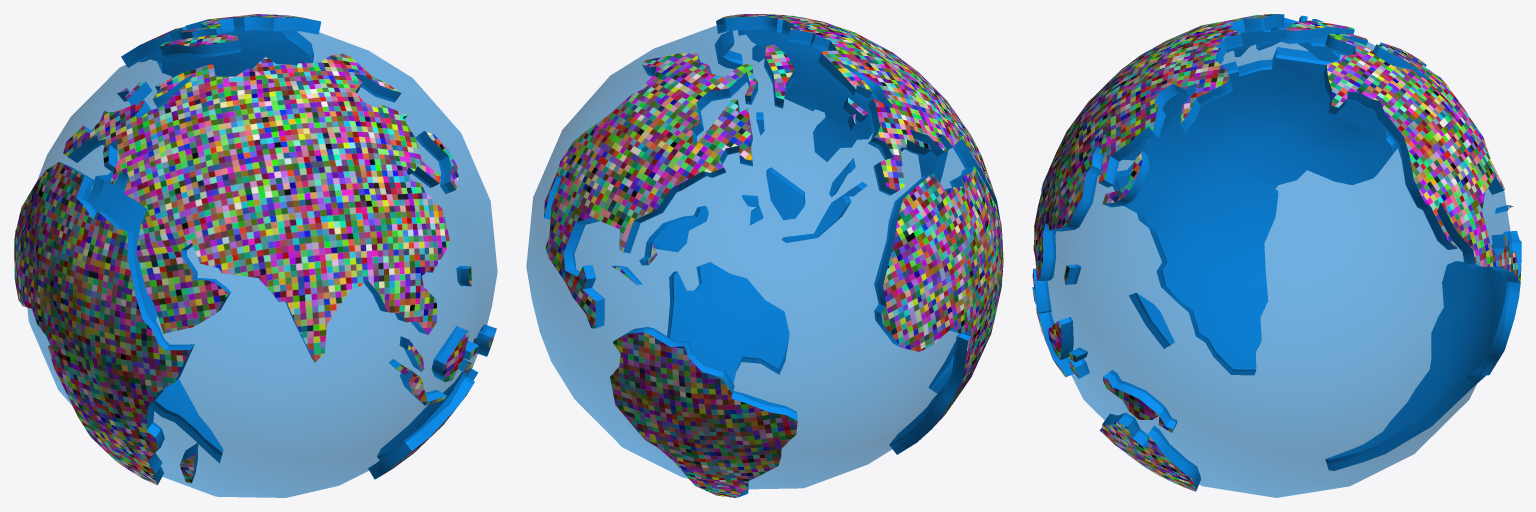
Rendered from earth.obj.
The picture shows the model from 3 angles, left to right: view 1: azimuth 30°, elevation 25°; view 2: azimuth 150°, elevation 25°; view 3: azimuth 270°, elevation 25°; orthographic projection.
Parts seen in each view (by area): view 1: earth; view 2: earth; view 3: earth.
Boxes of the visible parts, box(x1,y1,x2,y2) form: earth: box(14, 14, 497, 497); earth: box(526, 14, 1003, 497); earth: box(1032, 14, 1521, 497).
Bounding box in the file's own units: 1.99 × 2 × 2.01.
Materials: 3 (1 with a texture image).
